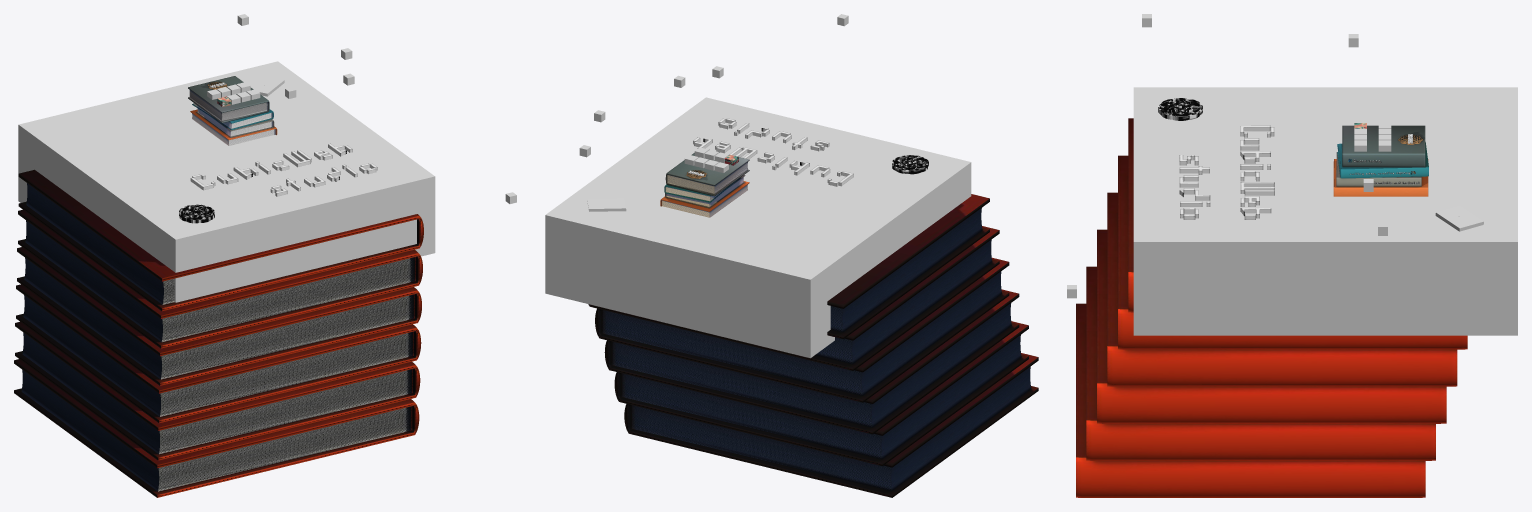
3 views of the same model, side by side, from view 1: azimuth 30°, elevation 25°; view 2: azimuth 150°, elevation 25°; view 3: azimuth 270°, elevation 25° (orthographic). The views are drawn at different scales.
Visible parts, largest first — view 1: book.005, homepage_raycast, book.002, book work 1, book work 1.002, book work 1.001; view 2: book.005, homepage_raycast, book.002, book work 1, book work 1.002; view 3: homepage_raycast, book.005, book.002, book work 1, book work 1.002, book work 1.004, book work 1.001, mail_raycast.
Part boxes in pixels (x1,y1,x2,y2): book.005: (14, 169, 423, 497); homepage_raycast: (18, 61, 435, 302); book.002: (179, 143, 377, 223); book work 1: (188, 76, 269, 123); book work 1.002: (190, 109, 277, 145); book work 1.001: (196, 108, 274, 137); book.005: (588, 194, 1038, 497); homepage_raycast: (545, 97, 971, 358); book.002: (693, 118, 928, 186); book work 1: (665, 149, 749, 196); book work 1.002: (660, 181, 749, 217); homepage_raycast: (1133, 87, 1517, 335); book.005: (1076, 118, 1467, 497); book.002: (1158, 98, 1274, 219); book work 1: (1342, 125, 1425, 167); book work 1.002: (1333, 159, 1428, 196); book work 1.004: (1337, 142, 1428, 178); book work 1.001: (1336, 152, 1421, 186); mail_raycast: (1435, 205, 1483, 231).
Bounding box in the file's own units: 101 × 94.68 × 90.57.
Materials: 18 (18 with a texture image).
